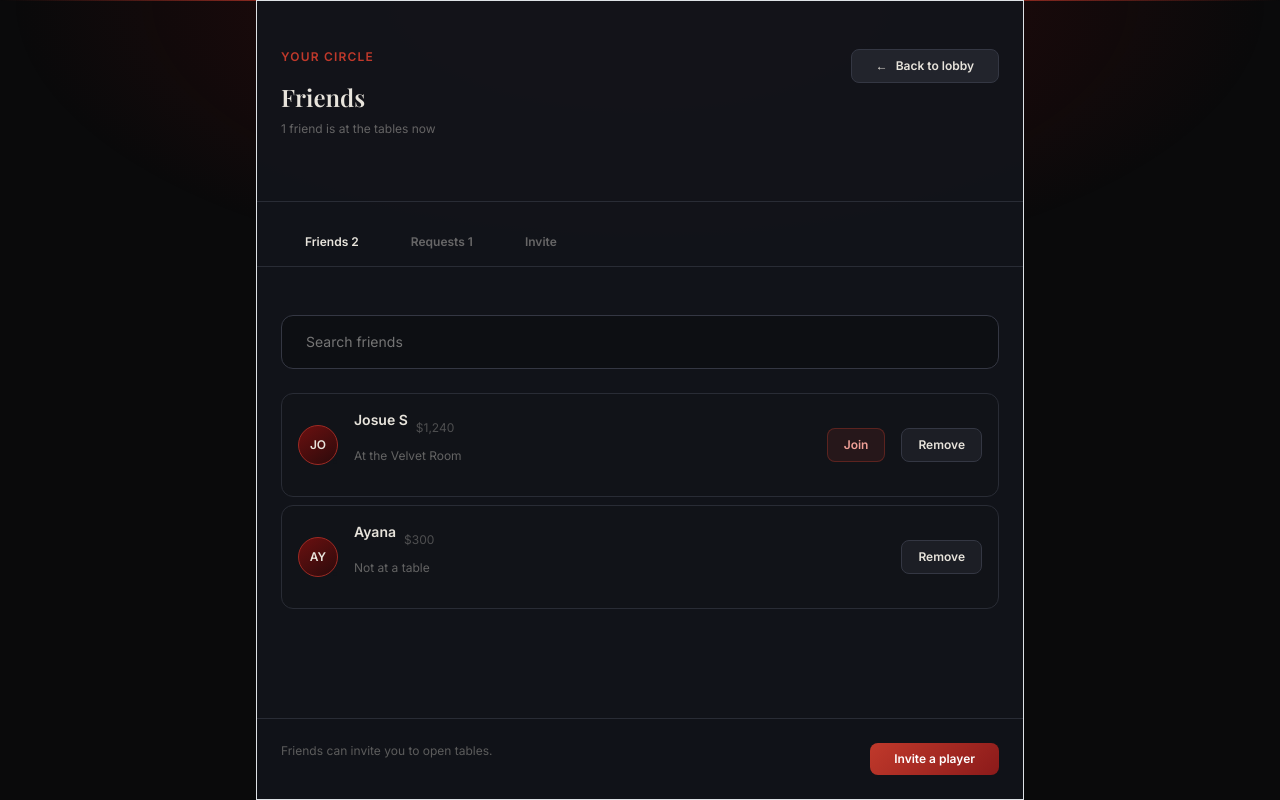
Test: Removing a friend (P11) › only one friend asks "Remove?" at a time
Click the button with aria-label "Remove Ayana": (942, 557) x1=901 y1=540 x2=982 y2=574
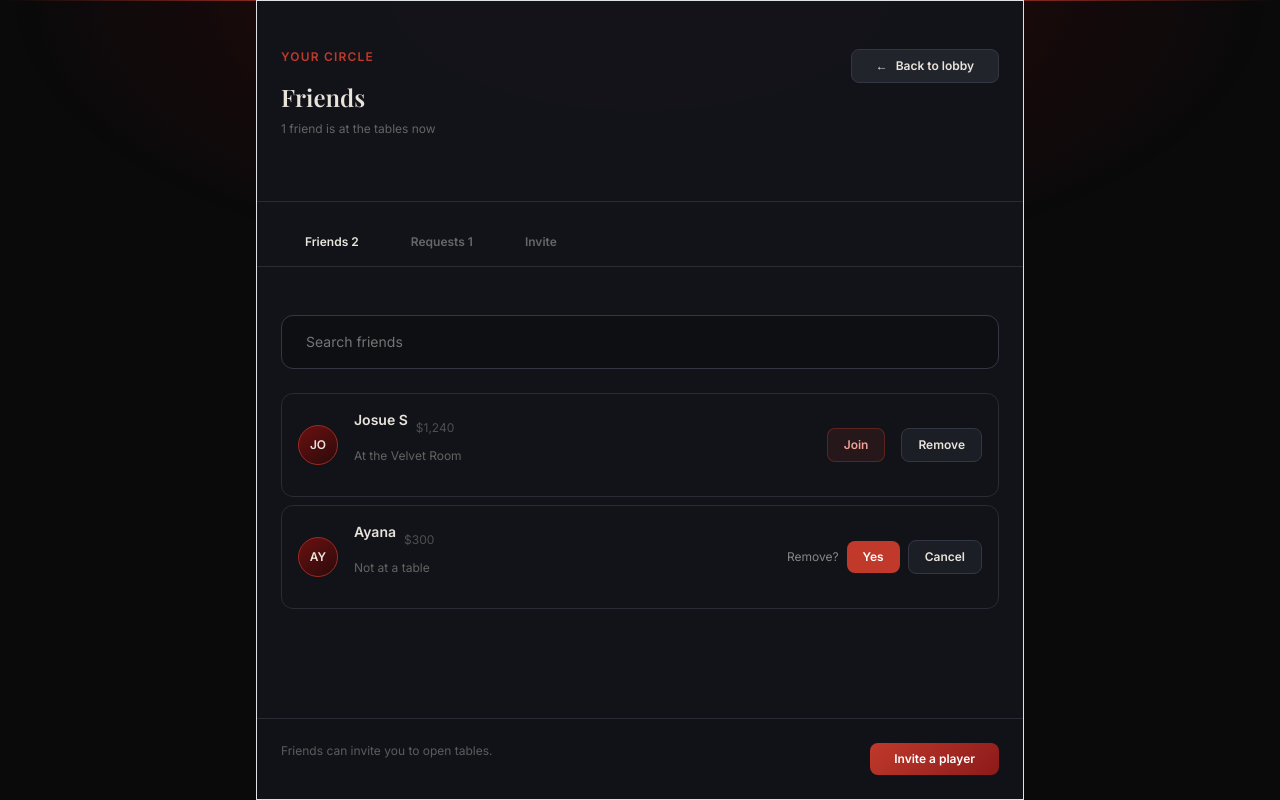
Click the button "Remove": (942, 445) x1=901 y1=428 x2=982 y2=462
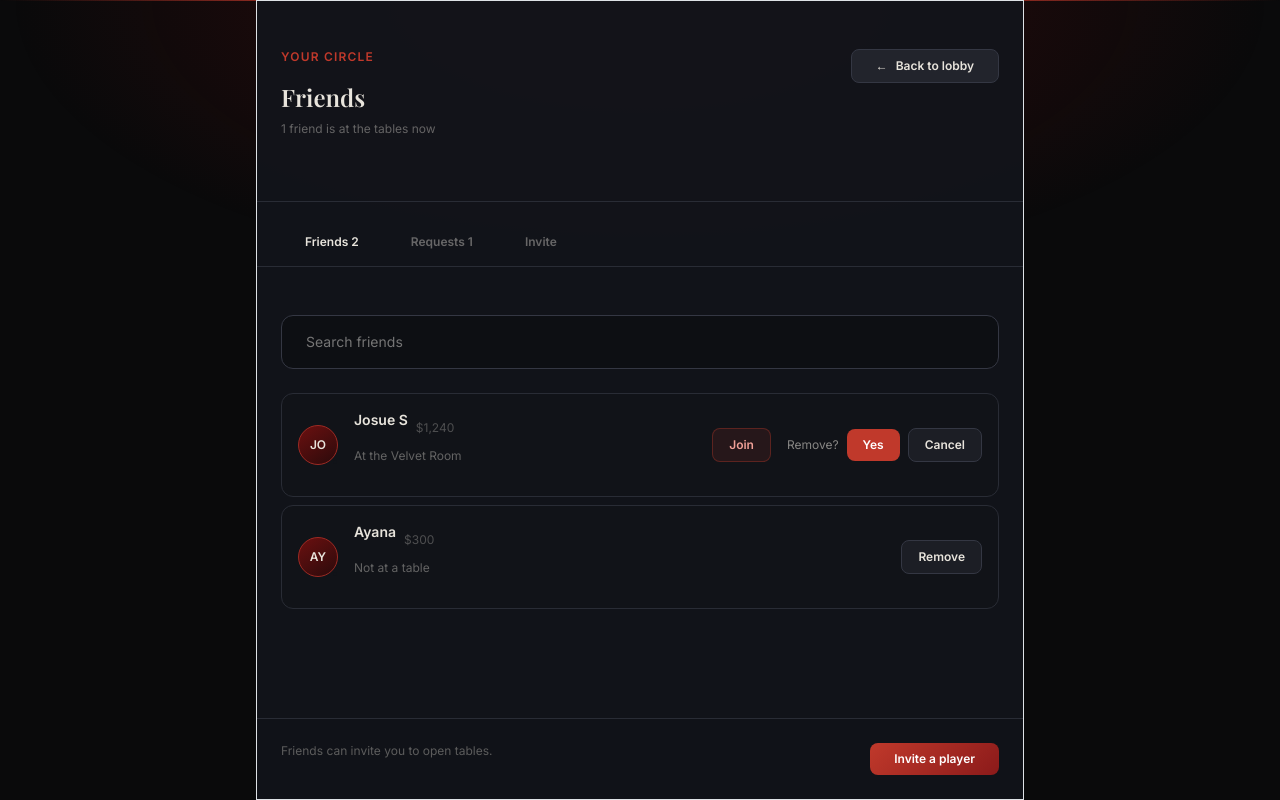
Now the text "Remove?" is shown once, box x1=787 y1=437 x2=839 y2=453
Now the button with aria-label "Remove Ayana" is shown, box x1=901 y1=540 x2=982 y2=574
